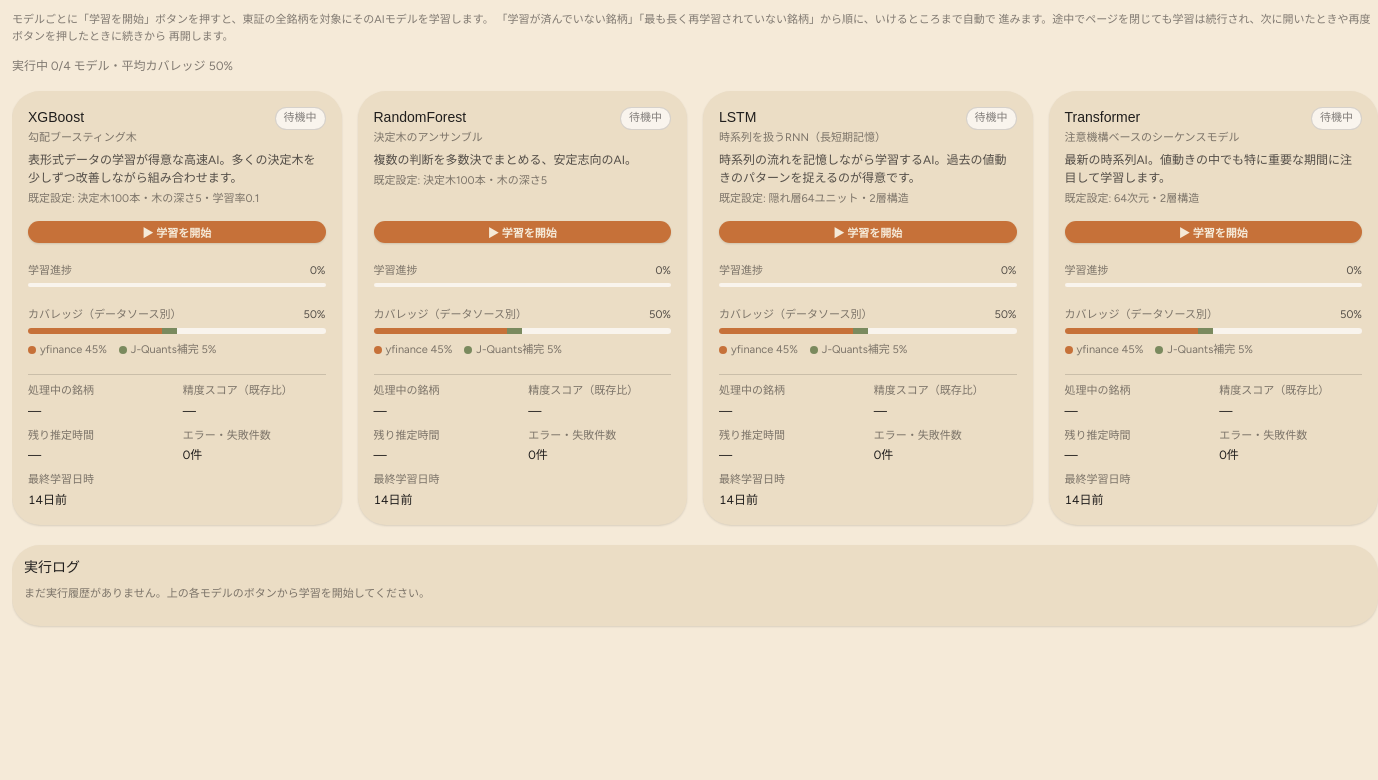
TrainingTriggerPanel › 起動リクエスト自体が失敗した場合はそのモデルのエラーメッセージを表示する
This screenshot has width=1378, height=780.
Step 1. Click the button "▶ 学習を開始" below "XGBoost" → point(177, 232), box [28, 220, 326, 242]
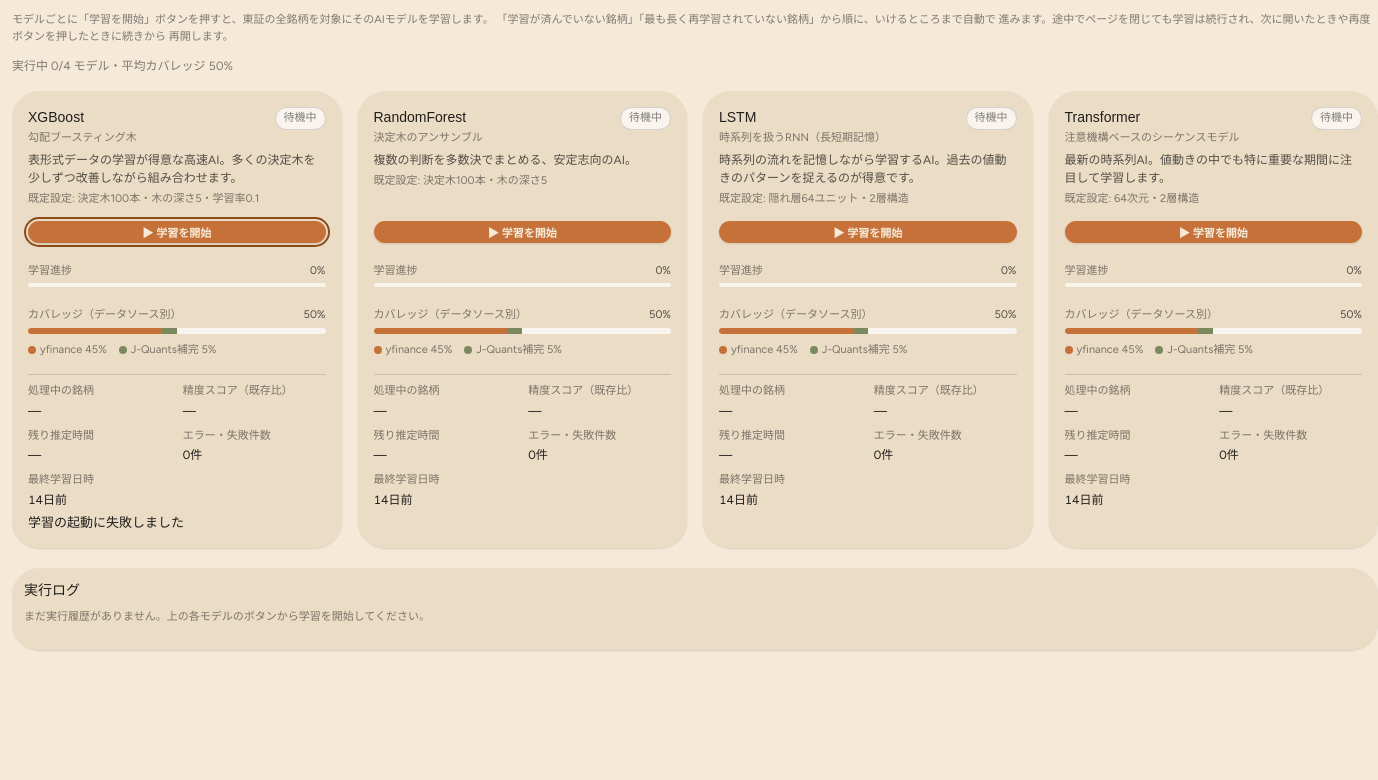
Expected: the text "学習の起動に失敗しました" is shown once, [28, 514, 184, 530]
